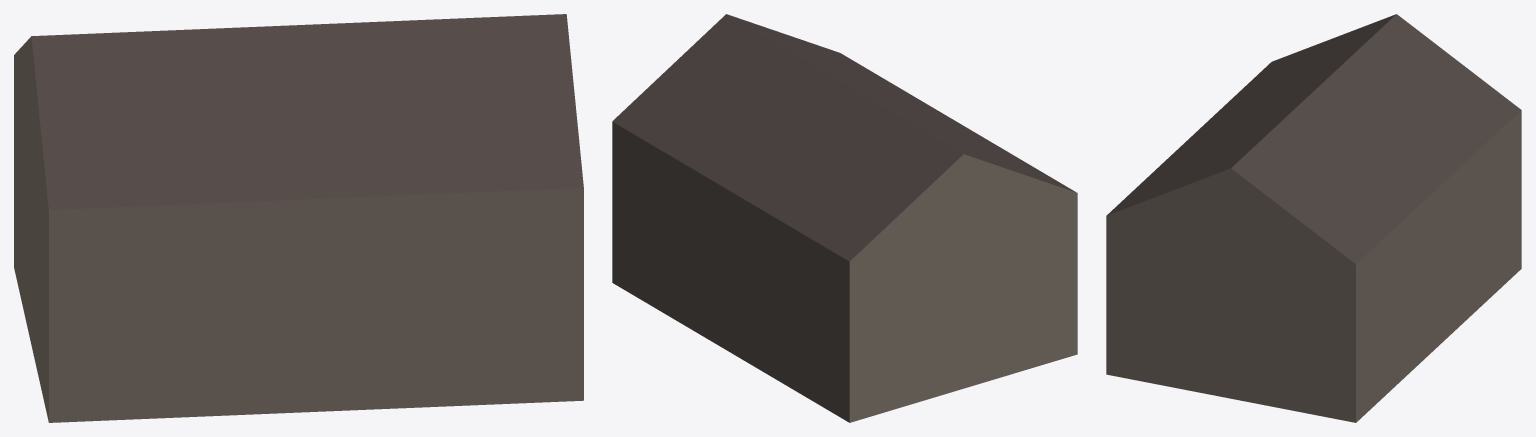
3 views of the same model, side by side, from view 1: azimuth 30°, elevation 25°; view 2: azimuth 150°, elevation 25°; view 3: azimuth 270°, elevation 25° (orthographic). The views are drawn at different scales.
Parts seen in each view (by area): view 1: HP-w859082569; view 2: HP-w859082569; view 3: HP-w859082569.
Boxes of the visible parts, x1,y1,x2,y2 form: HP-w859082569: (14, 14, 583, 422); HP-w859082569: (612, 14, 1077, 422); HP-w859082569: (1106, 14, 1521, 422).
Size of the model in its own units: 24.68 by 13.09 by 21.39.
